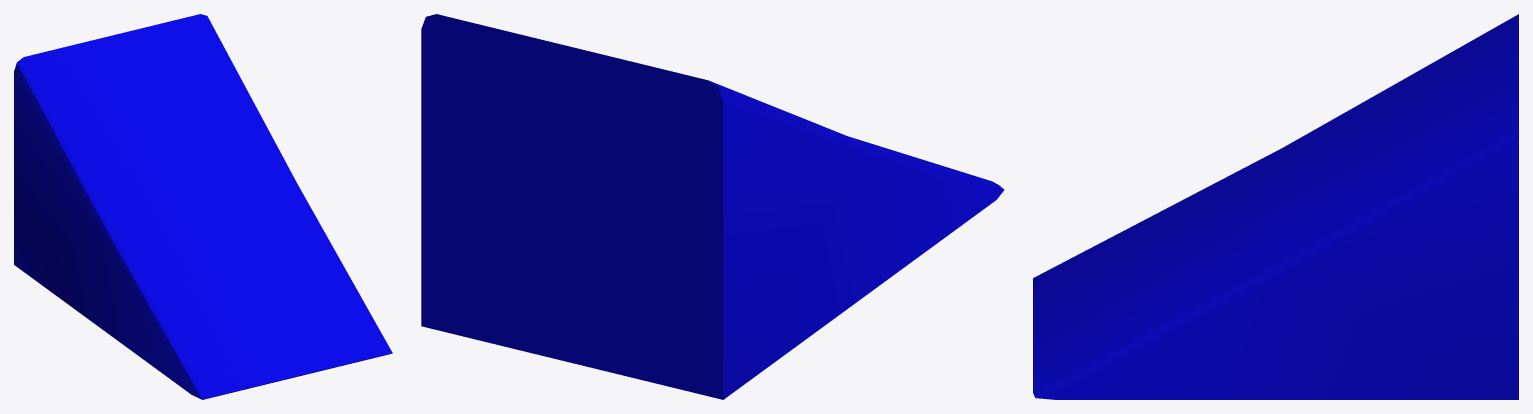
File: (p) Blue Triangular block.fbx
The picture shows the model from 3 angles, left to right: view 1: azimuth 30°, elevation 25°; view 2: azimuth 150°, elevation 25°; view 3: azimuth 270°, elevation 25°; orthographic projection. The views are drawn at different scales.
Parts seen in each view (by area): view 1: Triangalar Block.006; view 2: Triangalar Block.006; view 3: Triangalar Block.006.
Part boxes in pixels (x1,y1,x2,y2): Triangalar Block.006: (14,14,392,399); Triangalar Block.006: (421,14,1004,399); Triangalar Block.006: (1033,14,1518,399).
Size of the model in its own units: 296 by 296 by 488.
